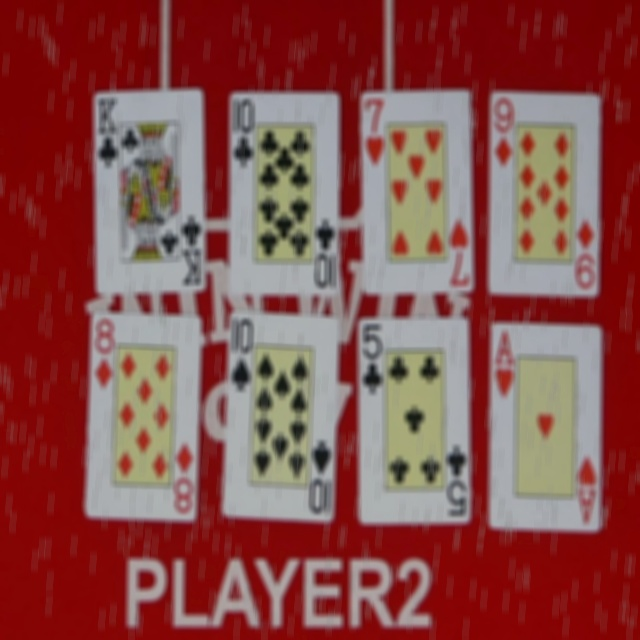10C: (230, 97, 256, 172), (314, 217, 338, 294)
10S: (310, 439, 336, 519), (229, 317, 255, 397)
5C: (360, 322, 386, 399), (446, 443, 471, 521)
7H: (360, 97, 387, 176), (447, 215, 474, 290)
8D: (89, 317, 117, 396), (171, 443, 197, 514)
9D: (575, 218, 601, 295), (490, 98, 515, 175)
AH: (574, 451, 602, 527), (491, 323, 518, 400)
KC: (94, 94, 118, 173), (178, 214, 202, 291)
